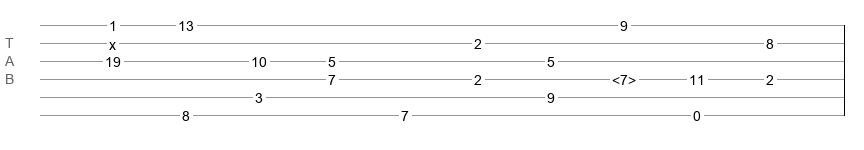0: (693, 108, 701, 118)
1: (109, 18, 117, 28)
10: (251, 54, 267, 64)
11: (689, 72, 705, 82)
13: (178, 18, 194, 28)
19: (105, 54, 121, 64)
2: (474, 72, 482, 82), (474, 36, 482, 46), (766, 72, 774, 82)
3: (255, 90, 263, 100)
5: (328, 54, 336, 64), (547, 54, 555, 64)
7: (328, 72, 336, 82), (401, 108, 409, 118)
8: (182, 108, 190, 118), (766, 36, 774, 46)
9: (547, 90, 555, 100), (620, 18, 628, 28)
harmonic: (612, 72, 636, 82)
x: (109, 37, 116, 45)
